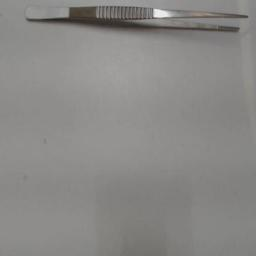DeBakey Dissector: (15, 3, 253, 43)
